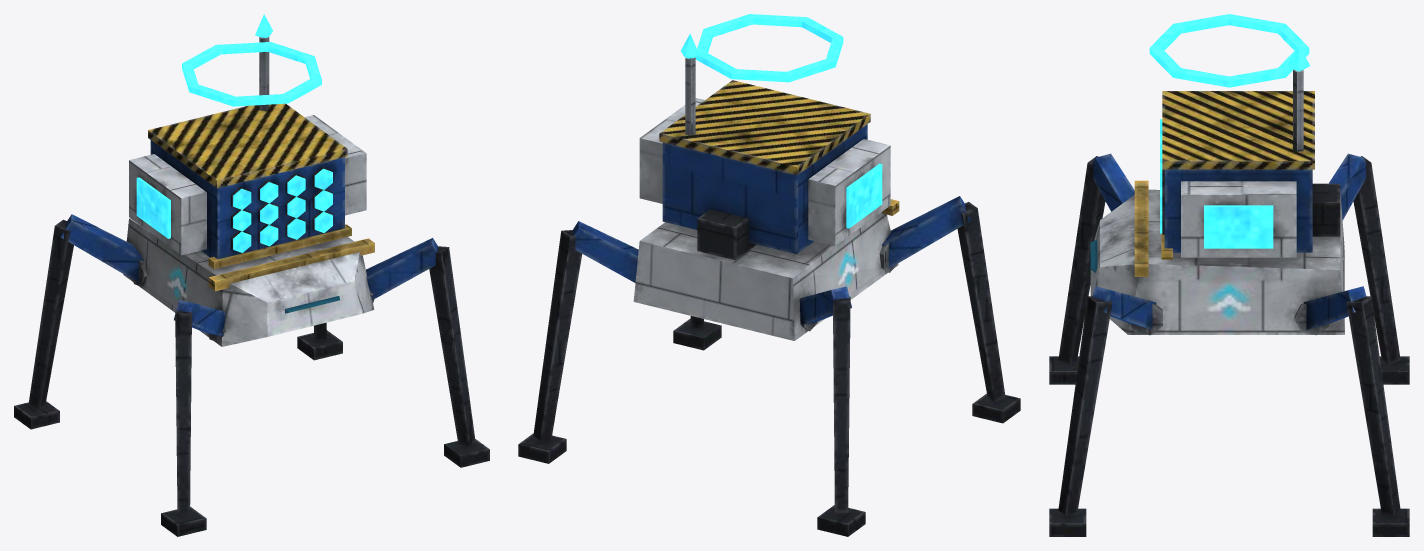
Rendered from u_havoc4_w.glb.
The picture shows the model from 3 angles, left to right: view 1: azimuth 30°, elevation 25°; view 2: azimuth 150°, elevation 25°; view 3: azimuth 270°, elevation 25°; orthographic projection. The views are drawn at different scales.
Parts seen in each view (by area): view 1: u_havoc4_w; view 2: u_havoc4_w; view 3: u_havoc4_w.
Boxes of the visible parts, x1,y1,x2,y2 form: u_havoc4_w: (14,14,489,536); u_havoc4_w: (518,14,1020,536); u_havoc4_w: (1049,14,1409,536).
Bounding box in the file's own units: 2.2 × 2.64 × 2.
1 material, 1 textured.
